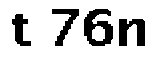6: (83, 7, 114, 50)
7: (48, 6, 80, 52)
n: (117, 16, 150, 52)
t: (9, 10, 37, 52)
